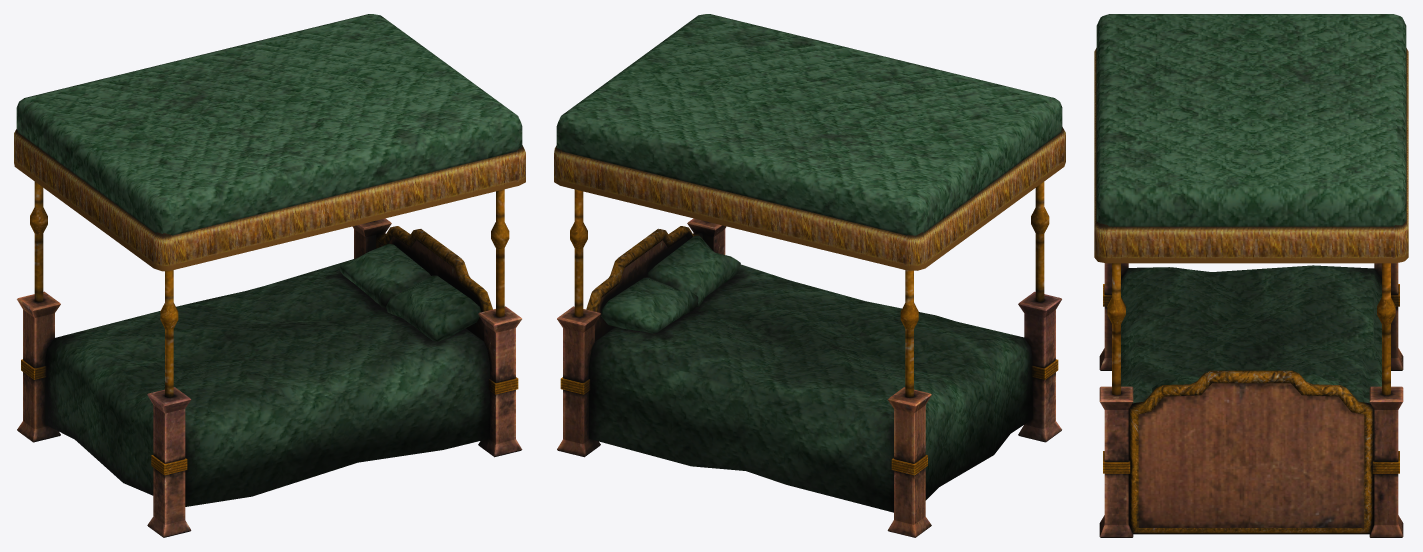
The model's file is bed_nice.dae.
3 views of the same model, side by side, from view 1: azimuth 30°, elevation 25°; view 2: azimuth 150°, elevation 25°; view 3: azimuth 270°, elevation 25° (orthographic). The views are drawn at different scales.
Visible parts, largest first — view 1: bed_nice_mesh, Object004; view 2: bed_nice_mesh, Object004; view 3: bed_nice_mesh, Object004.
Boxes of the visible parts, box(x1,y1,x2,y2) form: bed_nice_mesh: box(16, 14, 522, 537); Object004: box(14, 129, 525, 271); bed_nice_mesh: box(556, 14, 1062, 537); Object004: box(554, 127, 1065, 270); bed_nice_mesh: box(1096, 14, 1406, 537); Object004: box(1094, 48, 1408, 263).
Bounding box in the file's own units: 3.42 × 2.95 × 2.43.
